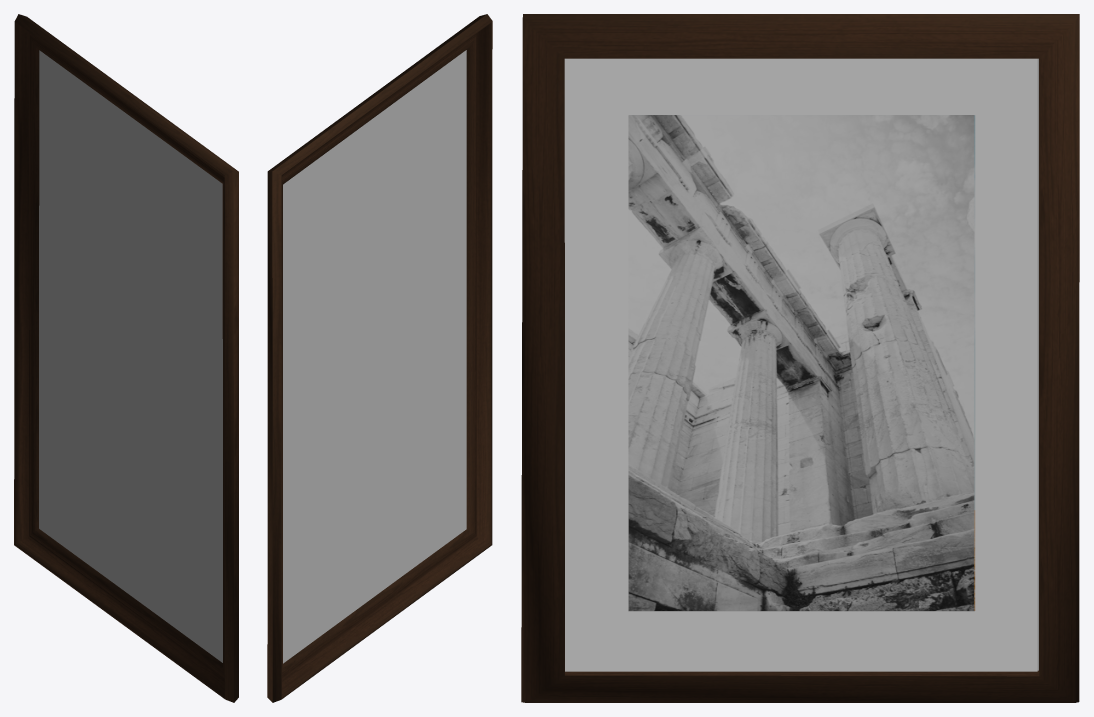
Rendered from SM_Photo_A6.fbx.
3 renders of one model, left to right at view 1: azimuth 30°, elevation 25°; view 2: azimuth 150°, elevation 25°; view 3: azimuth 270°, elevation 25°, orthographic. The views are drawn at different scales.
Parts seen in each view (by area): view 1: SM_Photo_A6; view 2: SM_Photo_A6; view 3: SM_Photo_A6.
Part boxes in pixels (x1,y1,x2,y2): SM_Photo_A6: (14, 14, 238, 702); SM_Photo_A6: (267, 14, 492, 702); SM_Photo_A6: (521, 14, 1079, 702).
Size of the model in its own units: 2.03 by 33.93 by 46.15.
Materials: 3 (2 with a texture image).
